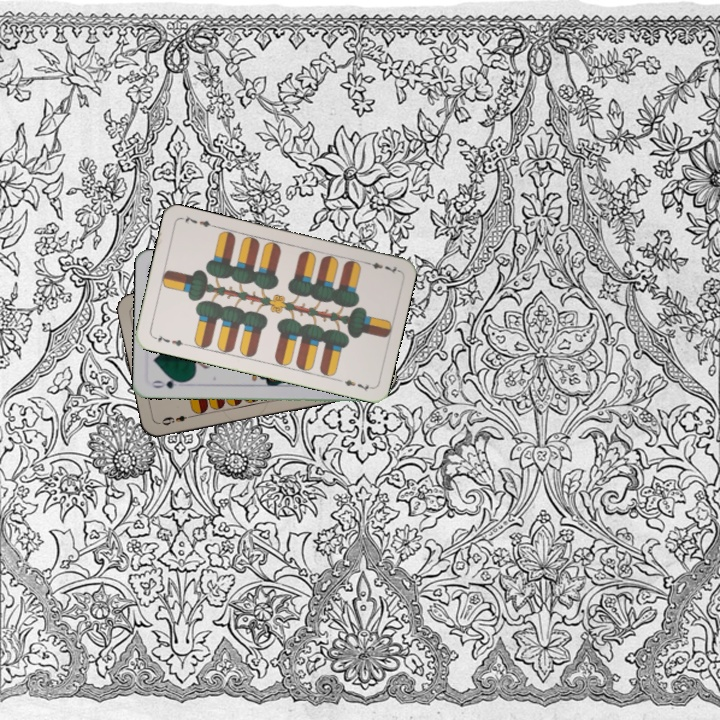E7: (149, 330, 190, 349), (361, 257, 401, 276)
E9: (156, 411, 196, 428)
GO: (148, 374, 188, 391)
